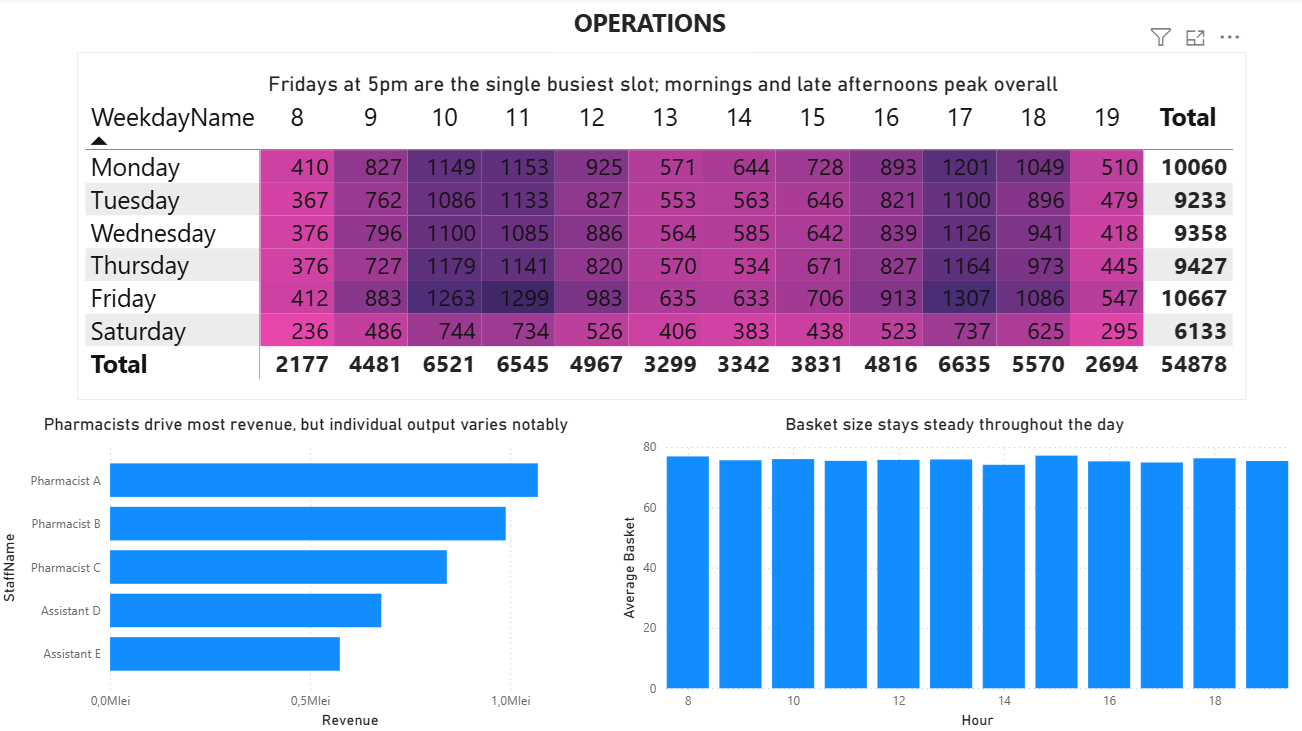

This screenshot's page, from the dashboard's own definition file:
{"tool":"powerbi","page":{"name":"Operations","canvas":[1280,720],"ordinal":1},"visuals":[{"type":"pivotTable","title":"Fridays at 5pm are the single busiest slot; mornings and late afternoons peak overall","fields":{"Rows":["DimDate.WeekdayName"],"Columns":["FactSales.Hour"],"Values":["FactSales.Transactions"]},"box":[79.5,53.8,1143.3,339.9],"z":0},{"type":"clusteredBarChart","title":"Pharmacists drive most revenue, but individual output varies notably","fields":{"Category":["DimStaff.StaffName"],"Y":["FactSales.Revenue"]},"box":[0,407.2,606.5,313],"z":1000},{"type":"clusteredColumnChart","title":"Basket size stays steady throughout the day","fields":{"Y":["FactSales.Average Basket"],"Category":["FactSales.Hour"]},"box":[606.5,407.2,662.8,313],"z":2000},{"type":"textbox","box":[538,3.7,203,50.1],"z":3000}]}

Visuals, with their boxes in screenshot pixels (x1, y1, x2, y2), scaled from the page's 1280x720 canvas onto the 1302x731 screenshot:
"Fridays at 5pm are the single busiest slot; mornings and late afternoons peak overall" pivotTable: (81, 55, 1244, 400)
"Pharmacists drive most revenue, but individual output varies notably" clusteredBarChart: (0, 413, 617, 730)
"Basket size stays steady throughout the day" clusteredColumnChart: (617, 413, 1291, 730)
textbox: (547, 4, 754, 55)
